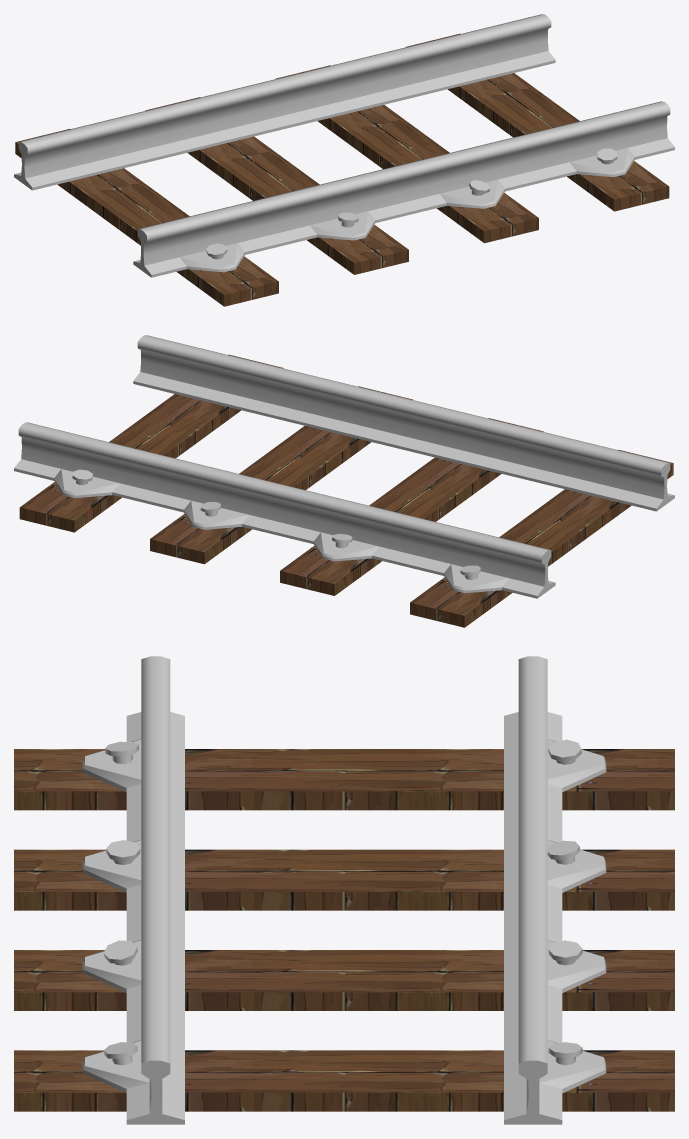
Rendered from train rail.fbx.
The picture shows the model from 3 angles, top to bottom: view 1: azimuth 30°, elevation 25°; view 2: azimuth 150°, elevation 25°; view 3: azimuth 270°, elevation 25°; orthographic projection. The views are drawn at different scales.
Parts seen in each view (by area): view 1: Cube_1_2, Cube_3, Cube_0, Cube_2, Cube_1; view 2: Cube_1_2, Cube_3, Cube_0, Cube_2, Cube_1; view 3: Cube_1_2, Cube_3, Cube_0, Cube_2, Cube_1.
Part boxes in pixels (left/top/right/bottom): Cube_1_2: left=14, top=14, right=674, bottom=277; Cube_3: left=15, top=129, right=278, bottom=306; Cube_0: left=406, top=33, right=669, bottom=211; Cube_2: left=145, top=97, right=408, bottom=274; Cube_1: left=276, top=65, right=538, bottom=243; Cube_1_2: left=14, top=335, right=674, bottom=598; Cube_3: left=410, top=450, right=673, bottom=627; Cube_0: left=19, top=354, right=282, bottom=532; Cube_2: left=280, top=418, right=543, bottom=595; Cube_1: left=150, top=386, right=412, bottom=564; Cube_1_2: left=82, top=656, right=606, bottom=1124; Cube_3: left=14, top=749, right=674, bottom=810; Cube_0: left=14, top=1050, right=674, bottom=1111; Cube_2: left=14, top=849, right=674, bottom=910; Cube_1: left=14, top=950, right=674, bottom=1010.
Size of the model in its own units: 471 by 45.02 by 325.
Materials: 2 (1 with a texture image).
